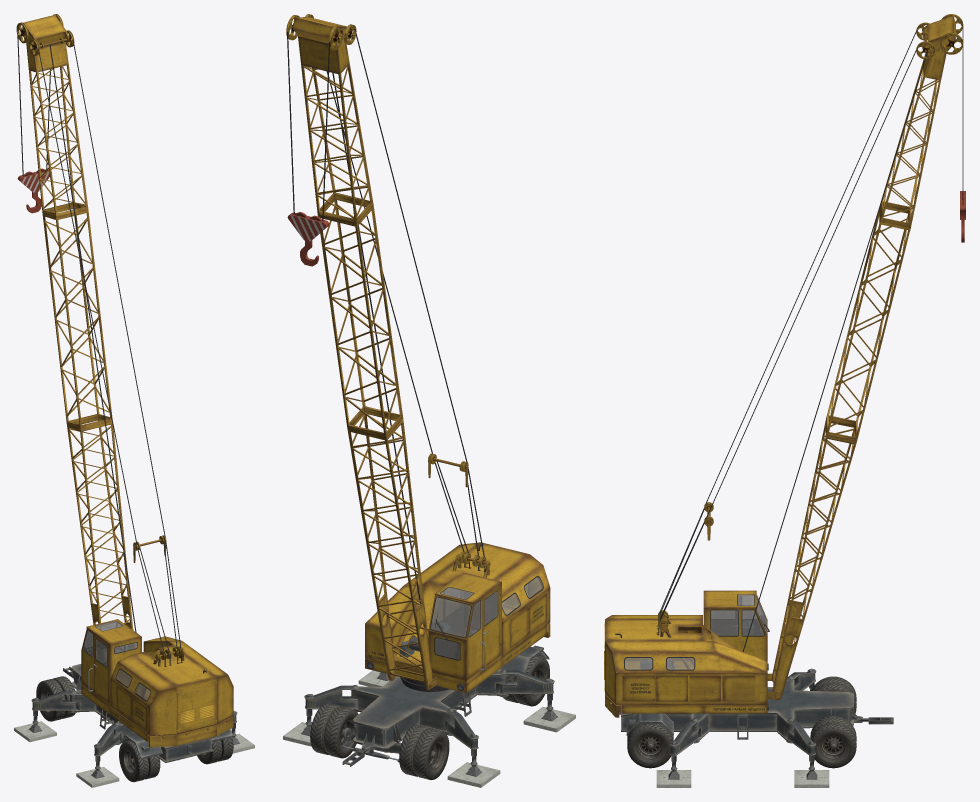
File: ks-5363_mobile_crane.glb
3 renders of one model, left to right at view 1: azimuth 30°, elevation 25°; view 2: azimuth 150°, elevation 25°; view 3: azimuth 270°, elevation 25°, orthographic. The views are drawn at different scales.
Parts seen in each view (by area): view 1: crane, boom_3, boom_2, boom_1, base_frame, cables.004, Plane.006, cables.001, left_rear_wheel_2, hatch.006, hatch.007, cab_door (+7 smaller); view 2: crane, boom_1, boom_3, base_frame, boom_2, Plane.006, left_front_wheel_2, cab_door, cables.004, right_front_wheel_1, left_rear_outrigger, hook (+12 smaller); view 3: crane, base_frame, boom_1, boom_3, boom_2, Plane.006, right_rear_wheel_2, right_front_wheel_2, cables.004, cables.001, hatch.003, hatch (+5 smaller).
Boxes of the visible parts, bbox=[...] form: crane: bbox=[81, 619, 233, 747]; boom_3: bbox=[16, 14, 88, 217]; boom_2: bbox=[42, 206, 112, 428]; boom_1: bbox=[67, 417, 133, 629]; base_frame: bbox=[69, 664, 232, 762]; cables.004: bbox=[38, 40, 165, 544]; Plane.006: bbox=[82, 620, 151, 701]; cables.001: bbox=[49, 44, 136, 632]; left_rear_wheel_2: bbox=[119, 740, 148, 782]; hatch.006: bbox=[197, 680, 216, 728]; hatch.007: bbox=[177, 684, 196, 732]; cab_door: bbox=[94, 634, 109, 702]; crane: bbox=[365, 542, 550, 693]; boom_1: bbox=[347, 410, 434, 689]; boom_3: bbox=[286, 14, 373, 223]; base_frame: bbox=[351, 645, 549, 749]; boom_2: bbox=[317, 196, 403, 437]; Plane.006: bbox=[430, 576, 543, 660]; left_front_wheel_2: bbox=[413, 728, 449, 779]; cab_door: bbox=[482, 586, 500, 668]; cables.004: bbox=[326, 33, 467, 461]; right_front_wheel_1: bbox=[324, 706, 358, 758]; left_rear_outrigger: bbox=[499, 669, 554, 710]; hook: bbox=[287, 212, 329, 266]; crane: bbox=[605, 590, 780, 717]; base_frame: bbox=[619, 679, 862, 741]; boom_1: bbox=[771, 418, 856, 699]; boom_3: bbox=[880, 14, 963, 227]; boom_2: bbox=[826, 205, 910, 441]; Plane.006: bbox=[624, 594, 767, 670]; right_rear_wheel_2: bbox=[627, 723, 673, 768]; right_front_wheel_2: bbox=[811, 722, 856, 768]; cables.004: bbox=[705, 30, 916, 518]; cables.001: bbox=[742, 53, 926, 651]; hatch.003: bbox=[622, 675, 655, 701]; hatch: bbox=[722, 675, 754, 701].
Bounding box in the file's own units: 6.13 × 23.44 × 10.68.
9 materials, 9 textured.
